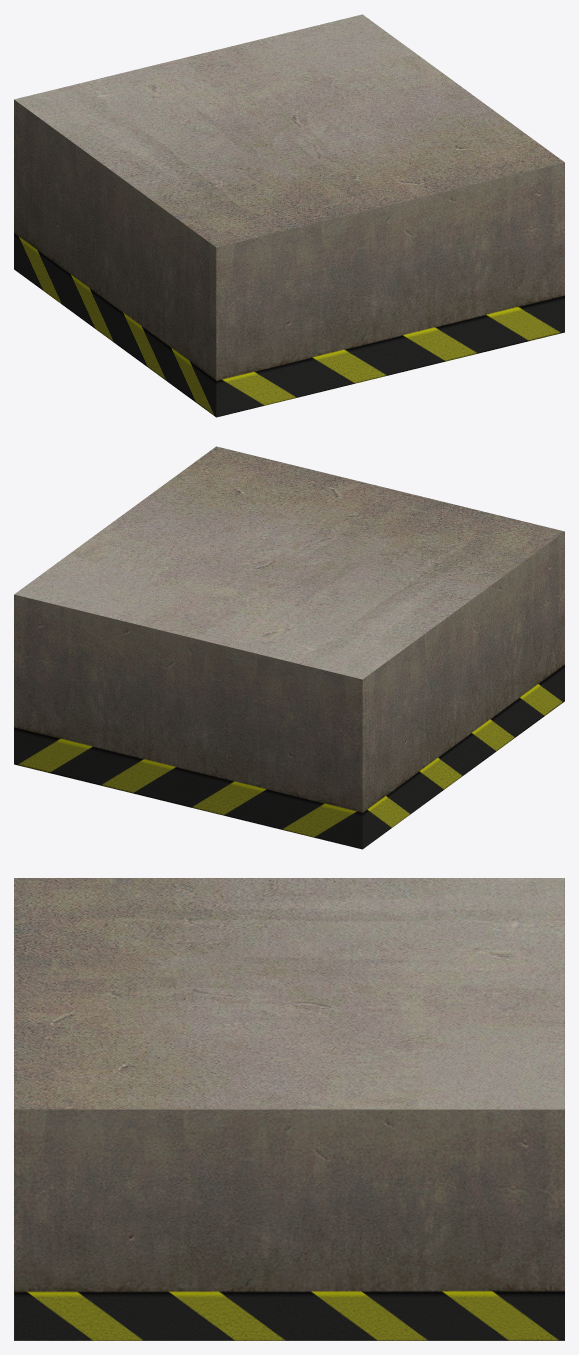
Rendered from fanqiang02.fbx.
3 renders of one model, top to bottom at view 1: azimuth 30°, elevation 25°; view 2: azimuth 150°, elevation 25°; view 3: azimuth 270°, elevation 25°, orthographic. The views are drawn at different scales.
Parts seen in each view (by area): view 1: fanqiang02; view 2: fanqiang02; view 3: fanqiang02.
Part boxes in pixels (box(x1,y1,x2,y2)): fanqiang02: box(14, 14, 564, 417); fanqiang02: box(14, 446, 564, 849); fanqiang02: box(14, 878, 564, 1340).
Size of the model in its own units: 398 by 185 by 400.
